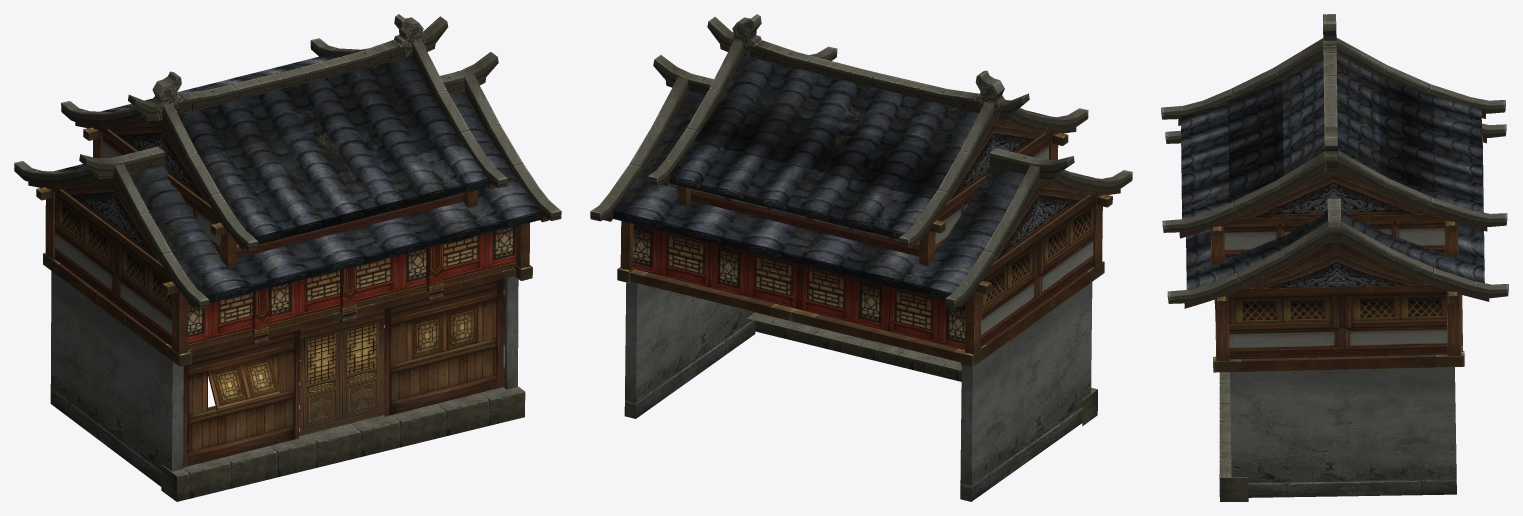
File: ss_fanzi_1.FBX
The picture shows the model from 3 angles, left to right: view 1: azimuth 30°, elevation 25°; view 2: azimuth 150°, elevation 25°; view 3: azimuth 270°, elevation 25°; orthographic projection. The views are drawn at different scales.
Parts seen in each view (by area): view 1: ss_fanzi_1; view 2: ss_fanzi_1; view 3: ss_fanzi_1.
Part boxes in pixels (x1,y1,x2,y2): ss_fanzi_1: [14, 14, 561, 501]; ss_fanzi_1: [590, 14, 1132, 501]; ss_fanzi_1: [1161, 14, 1508, 501].
Size of the model in its own units: 977 by 841 by 761.
